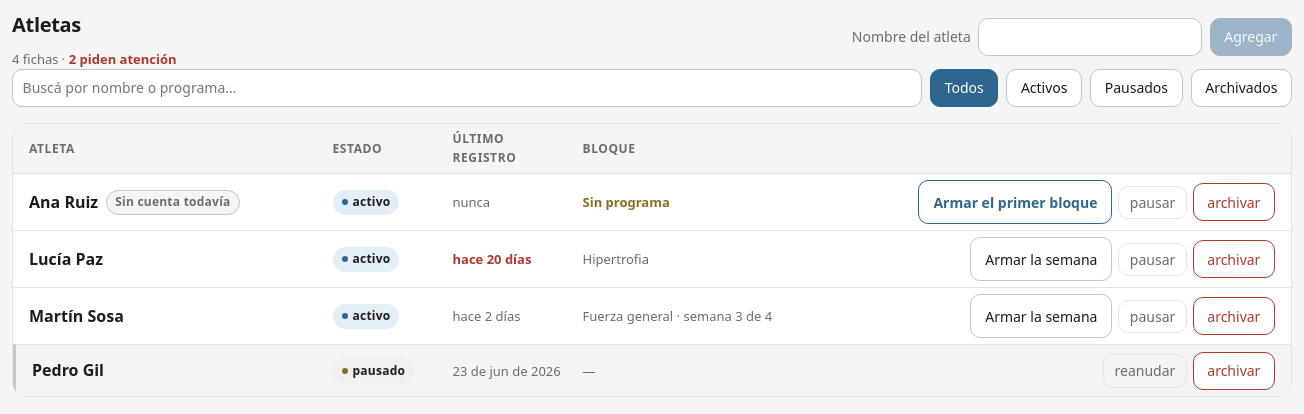
Test case: buscar y filtrar › busca también por programa
Expected: the link "Lucía Paz" is shown, [29,247,103,272]
Type "hipertrofia" into the search field named "Buscar atletas" at (467, 88), box [12,69,922,107]
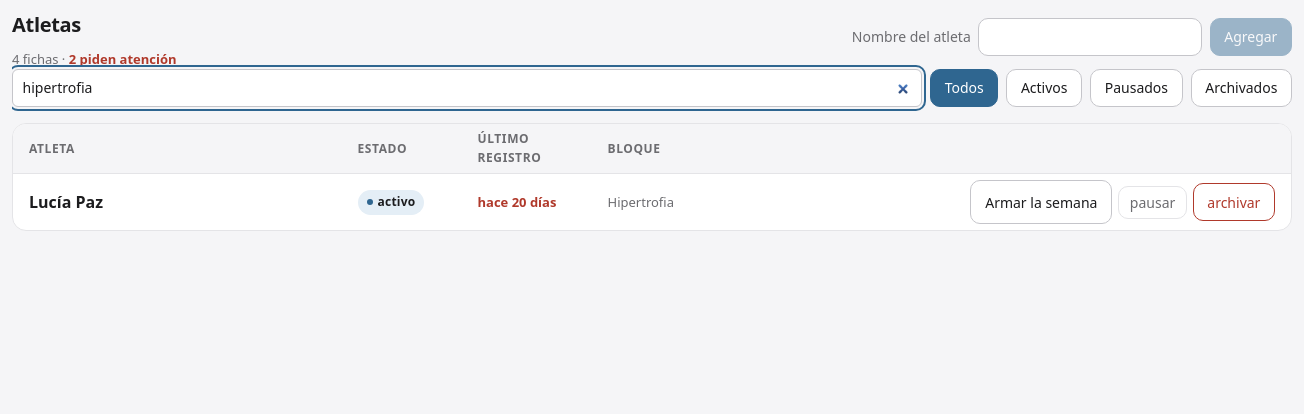
Expected: the link "Lucía Paz" is shown, [29,190,103,215]
Expected: the link "Martín Sosa" is gone
